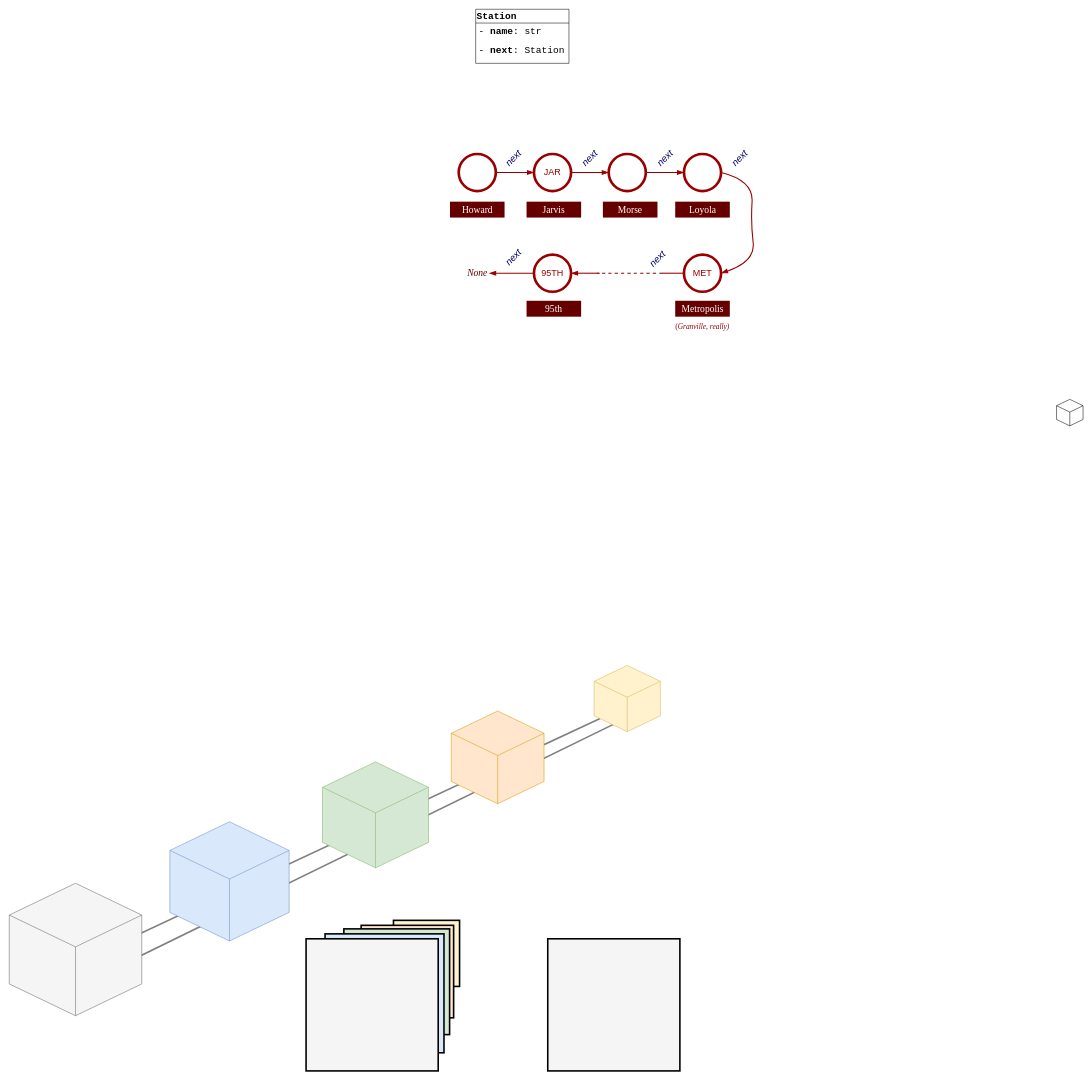
The diagram is 1092 pixels wide and 1081 high, and some of its shapes have lost their labels. The shapes that lost their labels are listed below. From the top down, each one's centre as x and y in pixels, then its label:
the point at 477,172: HOW
the point at 627,172: MOR
the point at 702,172: LOY
